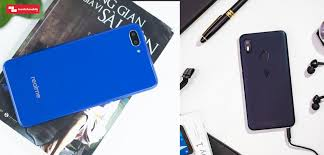vsmart: (235, 28, 299, 134)
